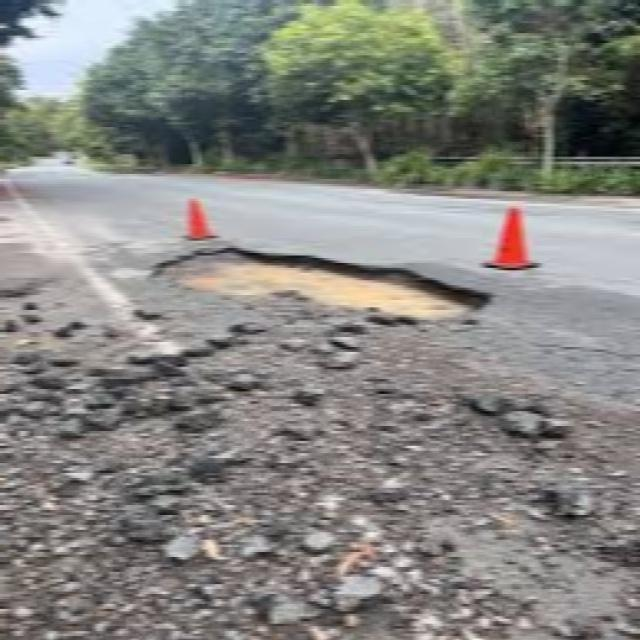Pothole: (142, 238, 506, 354)
